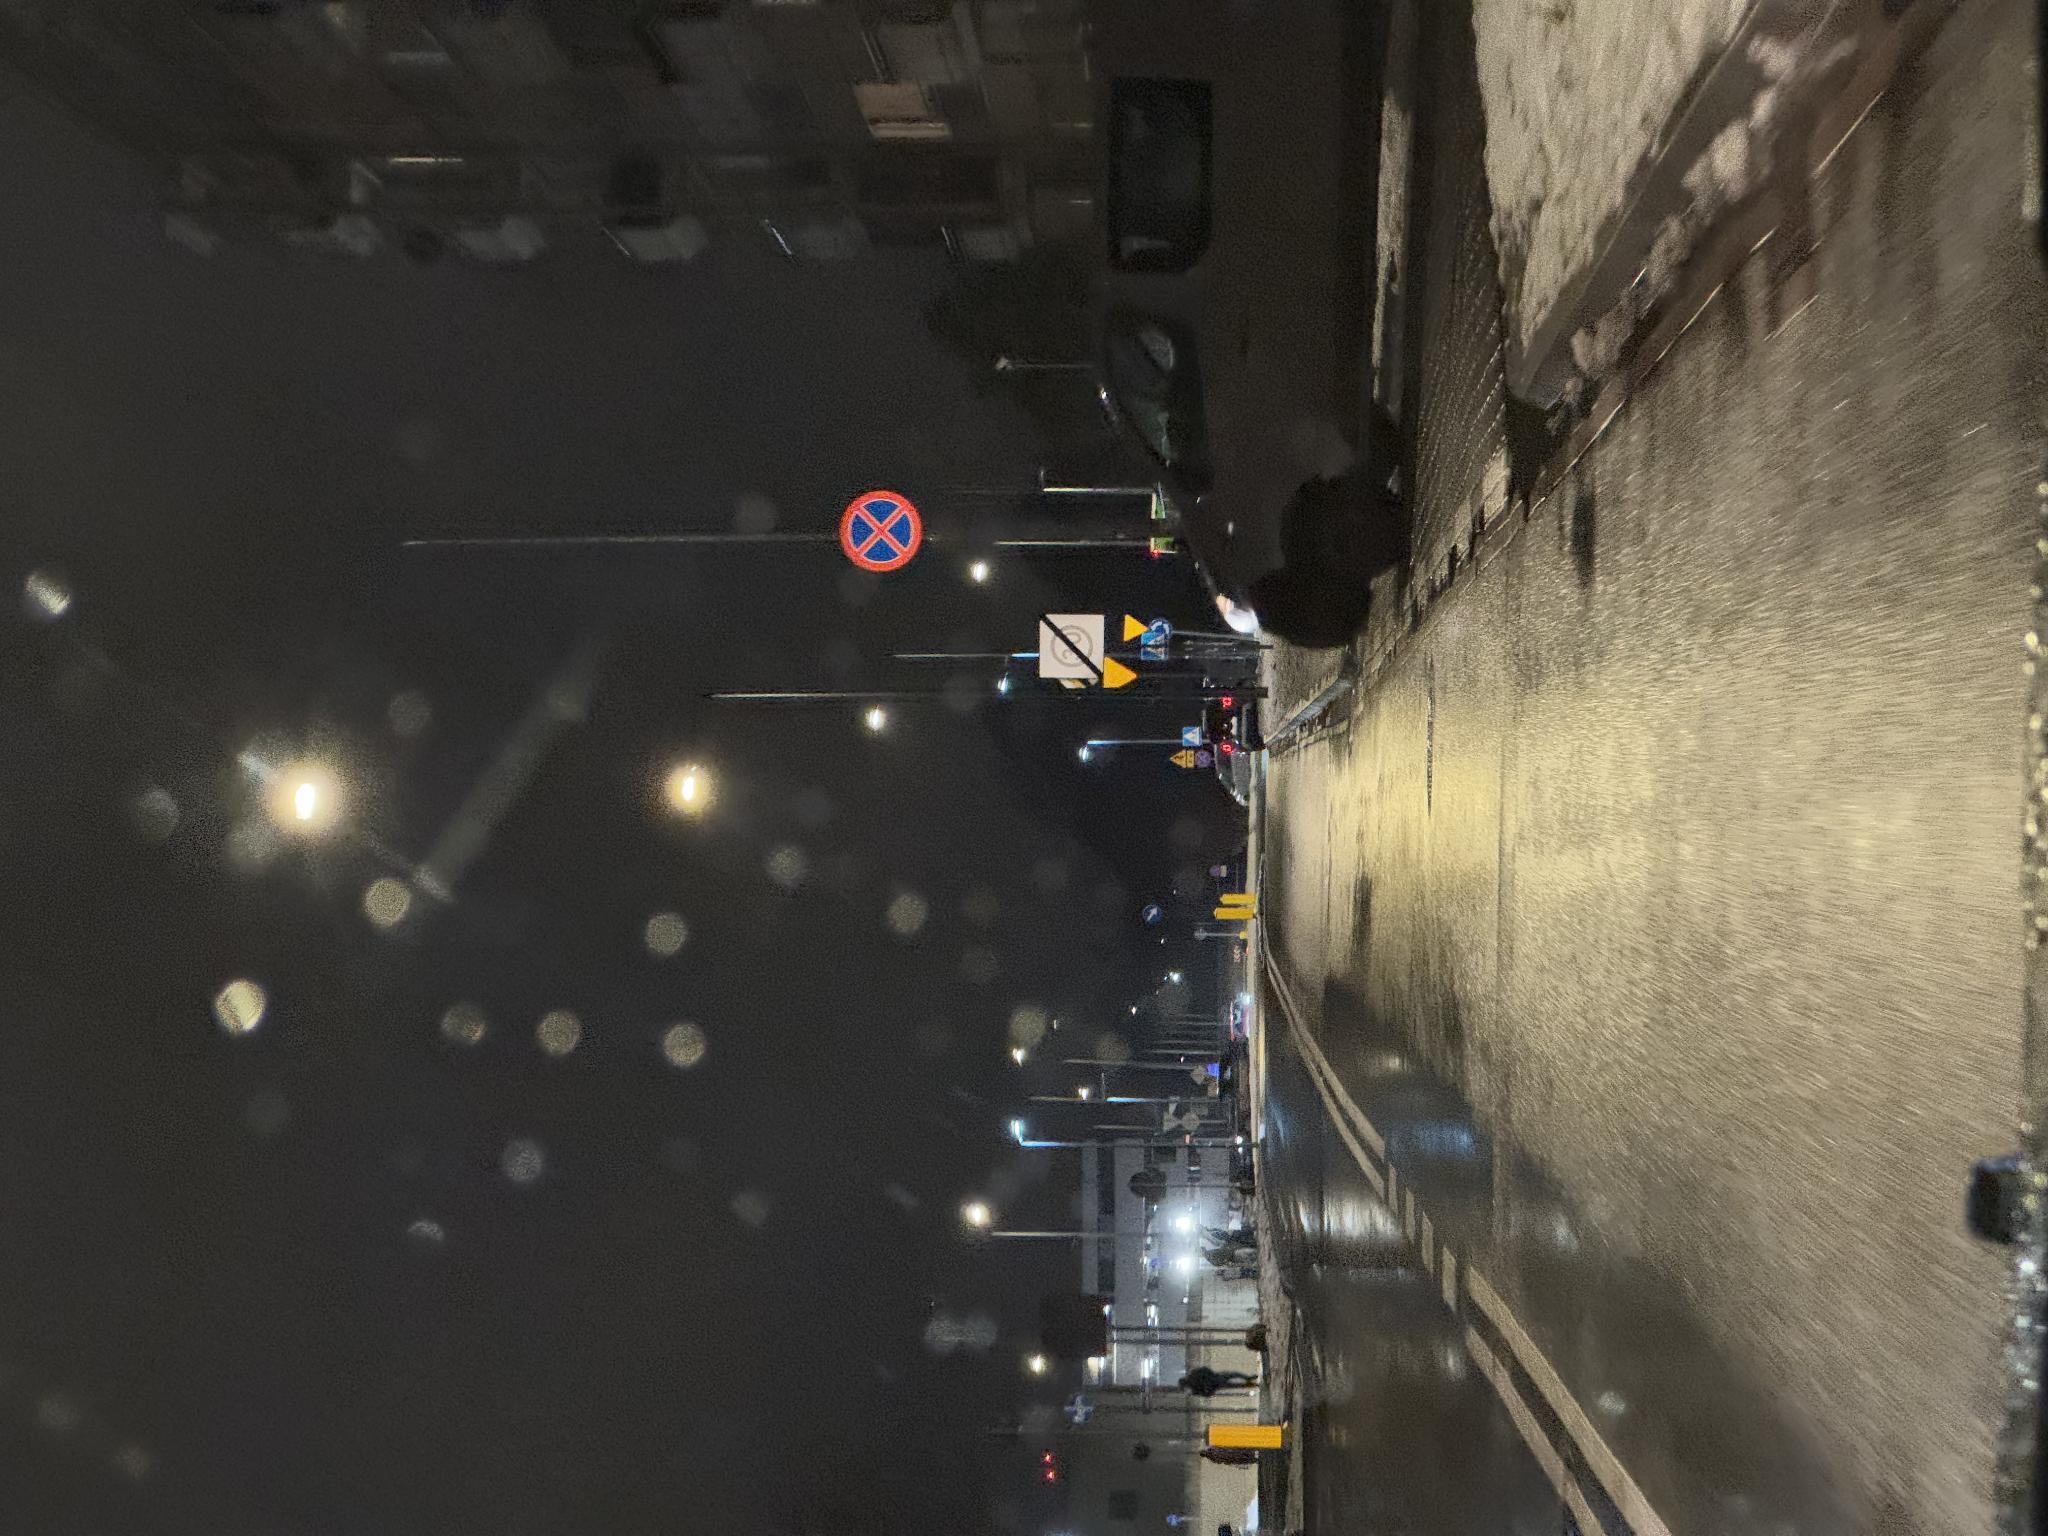information: (789, 1183, 810, 1202), (892, 1142, 905, 1168), (877, 1141, 889, 1170)
mandatory: (113, 1065, 144, 1094), (613, 1141, 632, 1163), (905, 1149, 918, 1173)
other: (769, 1187, 785, 1192)
prohibitory: (963, 837, 1048, 923), (860, 1041, 921, 1102), (769, 1194, 785, 1210), (392, 1183, 402, 1194), (661, 1210, 671, 1220)
warning: (848, 1104, 882, 1139), (895, 1121, 921, 1149), (768, 1168, 787, 1186)
